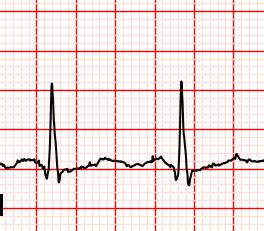Pathological Q Wave: (30, 157, 53, 184), (155, 161, 182, 181)
